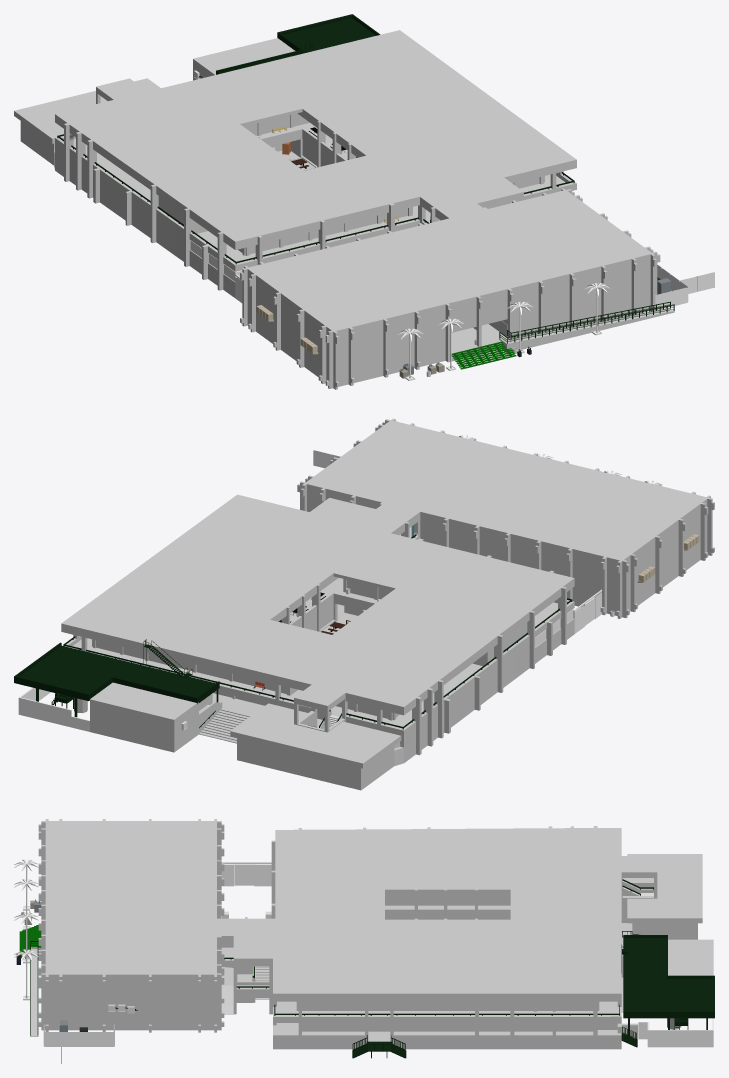
File: edificio7.glb
3 renders of one model, top to bottom at view 1: azimuth 30°, elevation 25°; view 2: azimuth 150°, elevation 25°; view 3: azimuth 270°, elevation 25°, orthographic.
Parts seen in each view (by area): view 1: polySurface7, pCube25, pCube2, pCube123, pCube3, pCube32; view 2: polySurface7, pCube25, pCube24, pCube32, pCube19; view 3: polySurface7, pCube25, pCube24, pCube19, pCube123, pCube32, pCube31, pCube3.
Part boxes in pixels (bbox=[...]): polySurface7: bbox=[14, 30, 674, 389]; pCube25: bbox=[216, 14, 380, 74]; pCube2: bbox=[499, 301, 674, 343]; pCube123: bbox=[655, 265, 714, 310]; pCube3: bbox=[451, 341, 516, 369]; pCube32: bbox=[57, 134, 574, 264]; polySurface7: bbox=[61, 418, 714, 790]; pCube25: bbox=[14, 642, 219, 717]; pCube24: bbox=[18, 687, 89, 731]; pCube32: bbox=[63, 534, 572, 729]; pCube19: bbox=[573, 589, 601, 633]; polySurface7: bbox=[30, 819, 713, 1049]; pCube25: bbox=[623, 935, 714, 1035]; pCube24: bbox=[638, 1018, 713, 1047]; pCube19: bbox=[221, 862, 271, 886]; pCube123: bbox=[43, 1024, 114, 1063]; pCube32: bbox=[224, 879, 653, 1015]; pCube31: bbox=[352, 1035, 406, 1058]; pCube3: bbox=[19, 925, 41, 958].
Size of the model in its own units: 0.63 by 0.0981 by 0.9817.
